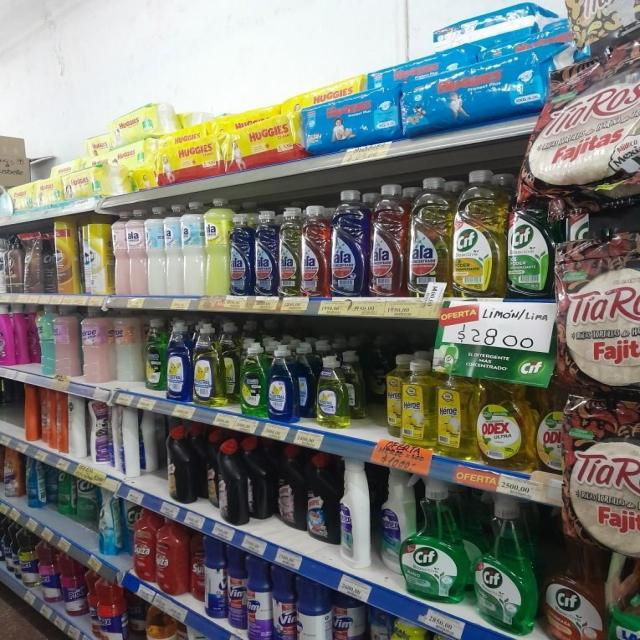ala_conc_amarillo: (408, 176, 450, 296), (279, 206, 301, 297)
ala_conc_azul: (330, 188, 368, 298), (254, 209, 278, 296), (230, 212, 253, 296)
ala_conc_rojo: (369, 183, 407, 298), (301, 204, 329, 298)
ala_crem_amarillo: (206, 198, 229, 296), (387, 620, 424, 640)
ala_crem_blanco: (183, 202, 205, 296), (148, 206, 165, 296), (166, 204, 182, 296)
ala_crem_rosado: (128, 208, 147, 296), (112, 211, 128, 296)
cif_conc_bot_amarilla: (452, 168, 504, 296)
cif_conc_botella_verde: (507, 187, 552, 299)
magistral_con_amarillo: (316, 352, 348, 428), (192, 321, 220, 407), (221, 322, 238, 408)
magistral_con_azul: (267, 343, 295, 422), (166, 320, 191, 402), (297, 342, 315, 420)
magistral_con_verde: (240, 340, 266, 418)
